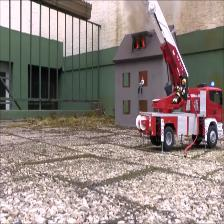fire: (132, 37, 145, 48)
smoke: (131, 3, 145, 30)
